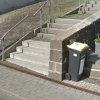stairs: (2, 15, 80, 74)
